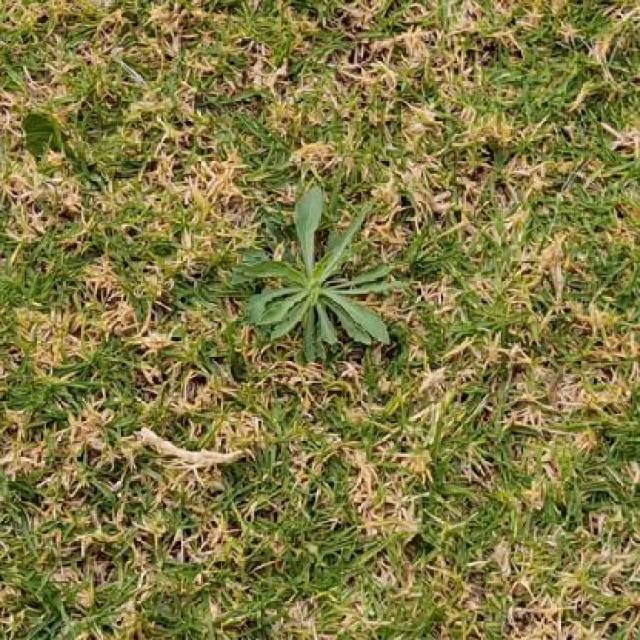weed: (238, 188, 391, 361)
